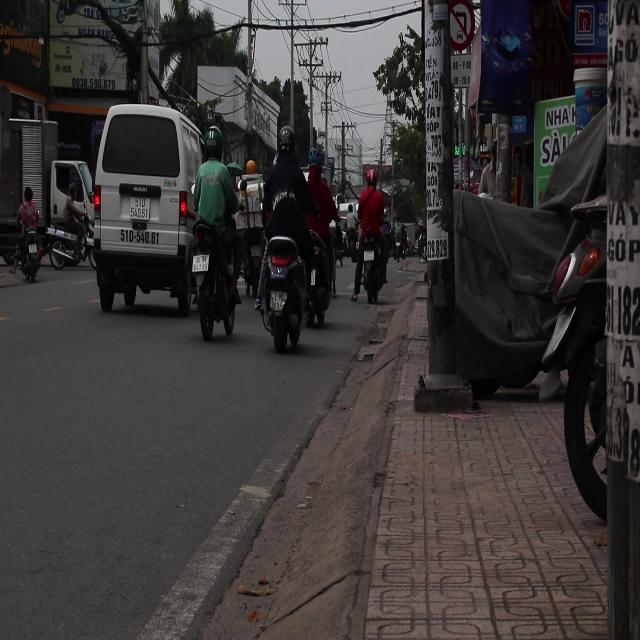motorbike: (189, 215, 241, 344), (256, 239, 308, 352), (5, 200, 46, 293)
truck: (91, 104, 205, 316)
